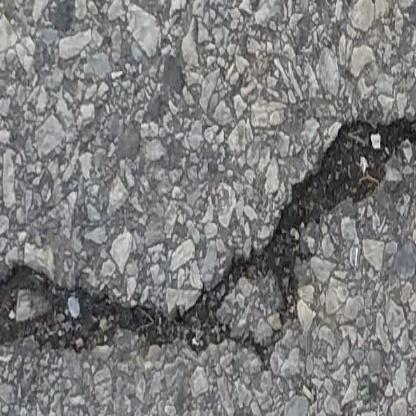Cracks: (0, 104, 416, 372)
